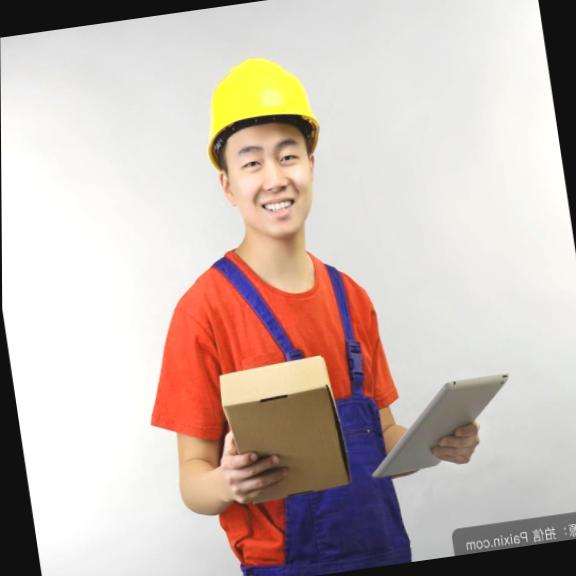no_safety_vest: (125, 227, 429, 576)
